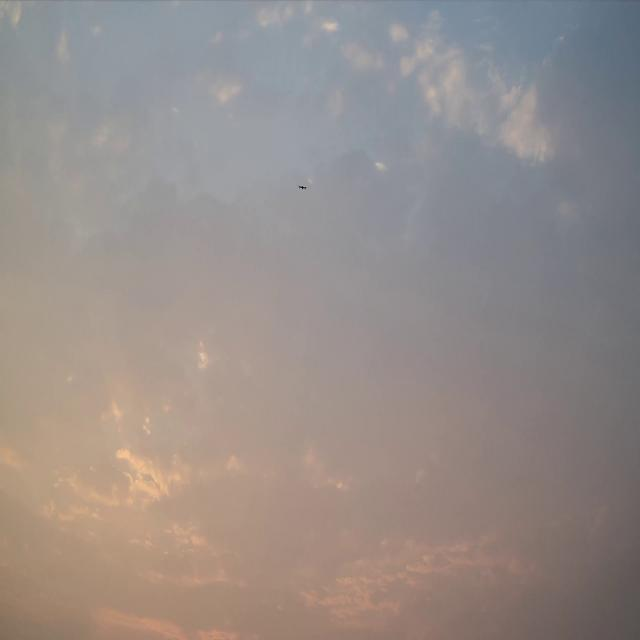drone: (297, 185, 307, 190)
